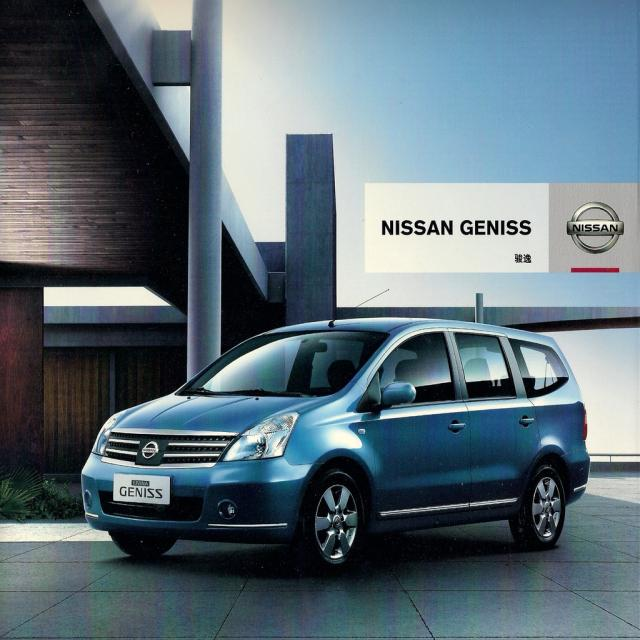car: (78, 287, 590, 579)
